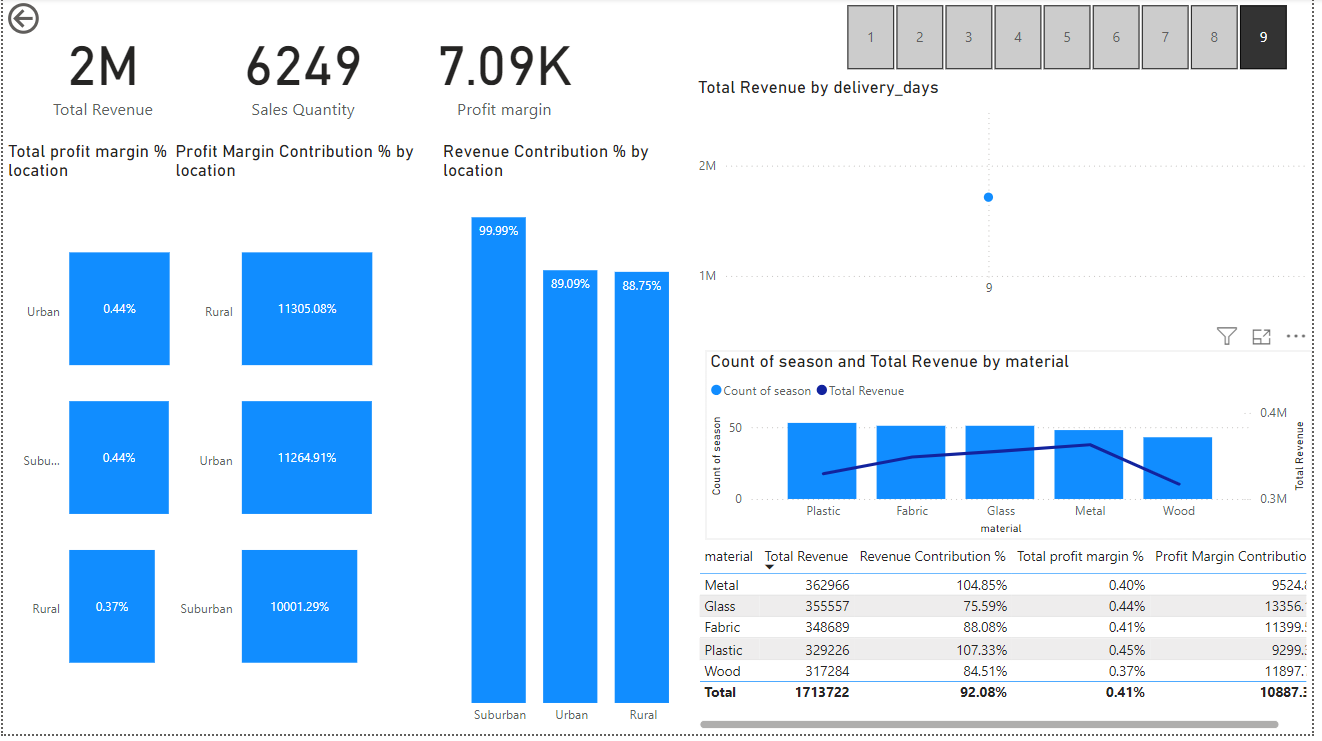

This screenshot's page, from the dashboard's own definition file:
{"tool":"powerbi","page":{"name":"Page 1","canvas":[1280,720],"ordinal":0},"visuals":[{"type":"card","fields":{"Values":["Sum(Furniture.profit_margin)"]},"box":[392.5,0,196.2,140],"z":0},{"type":"card","fields":{"Values":["base measures.Sales Quantity"]},"box":[196.2,0,196.2,140],"z":1000},{"type":"card","fields":{"Values":["base measures.Revenue"]},"box":[0,0,196.2,140],"z":2000},{"type":"clusteredBarChart","fields":{"Y":["base measures.Total profit margin %"],"Category":["Furniture.location"]},"box":[0,140,207.2,580.4],"z":3000},{"type":"clusteredBarChart","fields":{"Y":["base measures.Profit Margin Contribution %"],"Category":["Furniture.location"]},"box":[163.3,140,262.1,580.4],"z":4000},{"type":"clusteredColumnChart","fields":{"Y":["base measures.Revenue Contribution %"],"Category":["Furniture.location"]},"box":[425.4,140,262.1,580.4],"z":5000},{"type":"lineChart","fields":{"Y":["base measures.Total Revenue"],"Category":["Furniture.delivery_days"]},"box":[675.1,76.8,605.1,225],"z":6000},{"type":"slicer","fields":{"Values":["Furniture.delivery_days"]},"box":[800,0,480.3,76.8],"z":7000},{"type":"tableEx","fields":{"Values":["Furniture.material","base measures.Total Revenue","base measures.Revenue Contribution %","base measures.Total profit margin %","base measures.Profit Margin Contribution %"]},"box":[675.1,529.7,605.1,190.7],"z":8000},{"type":"actionButton","box":[0,0,100,40],"z":9000},{"type":"lineClusteredColumnComboChart","fields":{"Category":["Furniture.material"],"Y":["CountNonNull(Furniture.season)"],"Y2":["base measures.Total Revenue"]},"box":[687.5,344.4,592.8,185.2],"z":10000}]}

Visuals, with their boxes in screenshot pixels (x1, y1, x2, y2), scaled from the page's 1280x720 canvas onto the 1322x741 screenshot:
card - Sum(Furniture.profit_margin): l=405, t=0, r=608, b=144
card - base measures.Sales Quantity: l=203, t=0, r=405, b=144
card - base measures.Revenue: l=0, t=0, r=203, b=144
clusteredBarChart - base measures.Total profit margin % x Furniture.location: l=0, t=144, r=214, b=740
clusteredBarChart - base measures.Profit Margin Contribution % x Furniture.location: l=169, t=144, r=439, b=740
clusteredColumnChart - base measures.Revenue Contribution % x Furniture.location: l=439, t=144, r=710, b=740
lineChart - base measures.Total Revenue x Furniture.delivery_days: l=697, t=79, r=1321, b=311
slicer - Furniture.delivery_days: l=826, t=0, r=1321, b=79
tableEx - Furniture.material x base measures.Total Revenue: l=697, t=545, r=1321, b=740
actionButton: l=0, t=0, r=103, b=41
lineClusteredColumnComboChart - Furniture.material x CountNonNull(Furniture.season): l=710, t=354, r=1321, b=545
